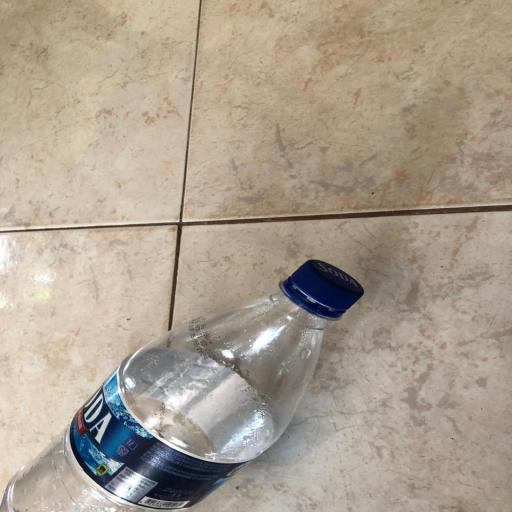waste: (0, 245, 379, 512)
